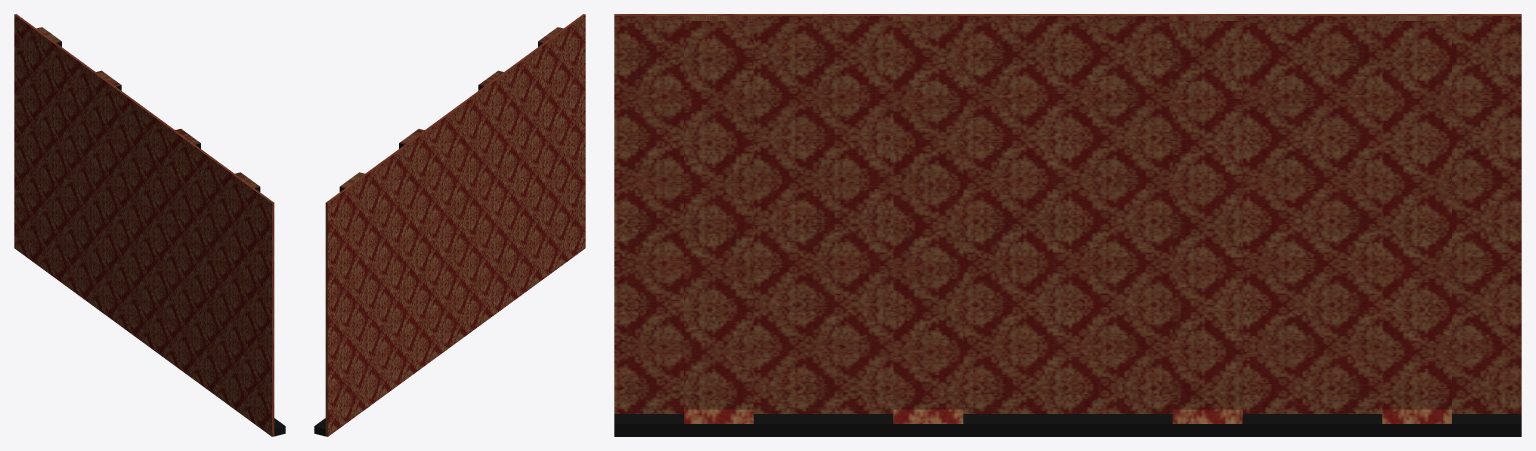
The model's file is Wall.fbx.
The picture shows the model from 3 angles, left to right: view 1: azimuth 30°, elevation 25°; view 2: azimuth 150°, elevation 25°; view 3: azimuth 270°, elevation 25°; orthographic projection. The views are drawn at different scales.
Parts seen in each view (by area): view 1: Cube; view 2: Cube; view 3: Cube.
Part boxes in pixels (x1,y1,x2,y2): Cube: (14, 14, 285, 436); Cube: (314, 14, 585, 436); Cube: (614, 14, 1521, 436).
Size of the model in its own units: 60.97 by 1000 by 2000.
2 materials, 1 textured.
